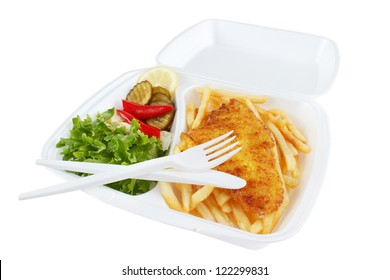Foam Box: (35, 16, 343, 251)
